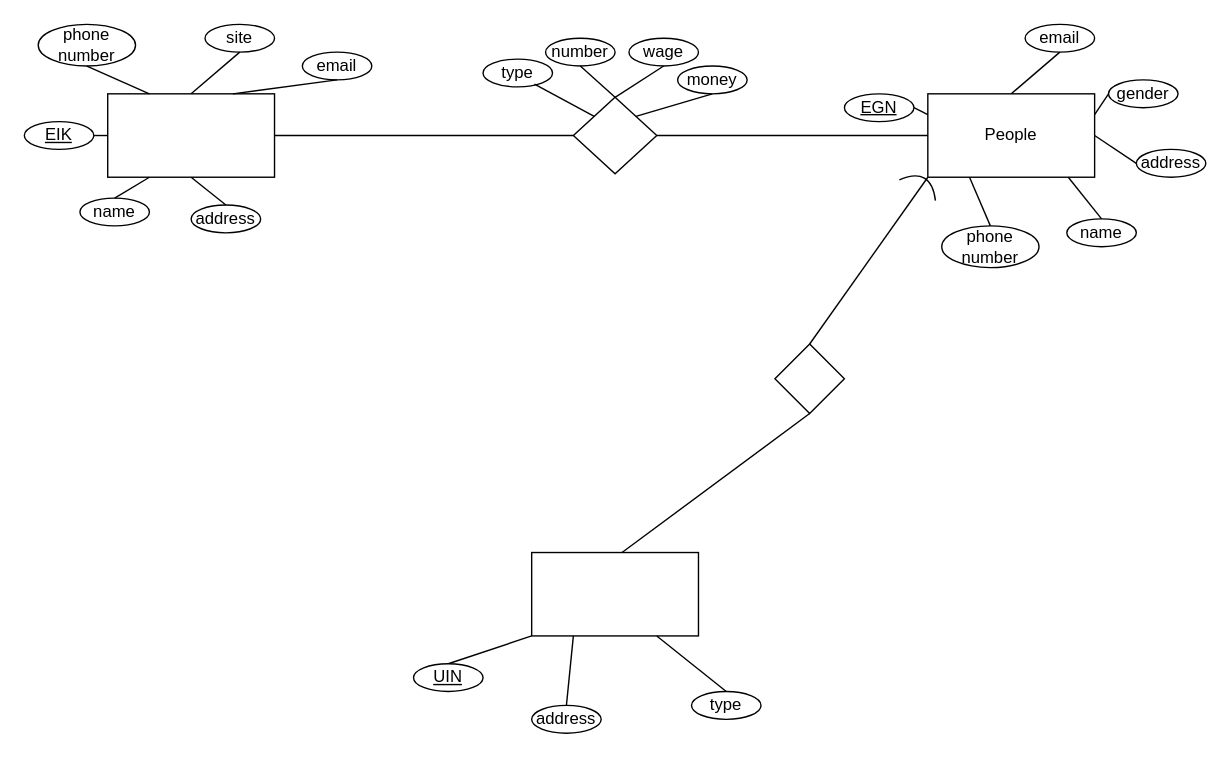
Image size: 1230x758. Some labels were removed from this diagram. Each missing label, with the centre of its shape:
"Companies" belongs at [190,134].
"contracts" belongs at [614,135].
"Estates" belongs at [614,593].
"owns" belongs at [809,378].
